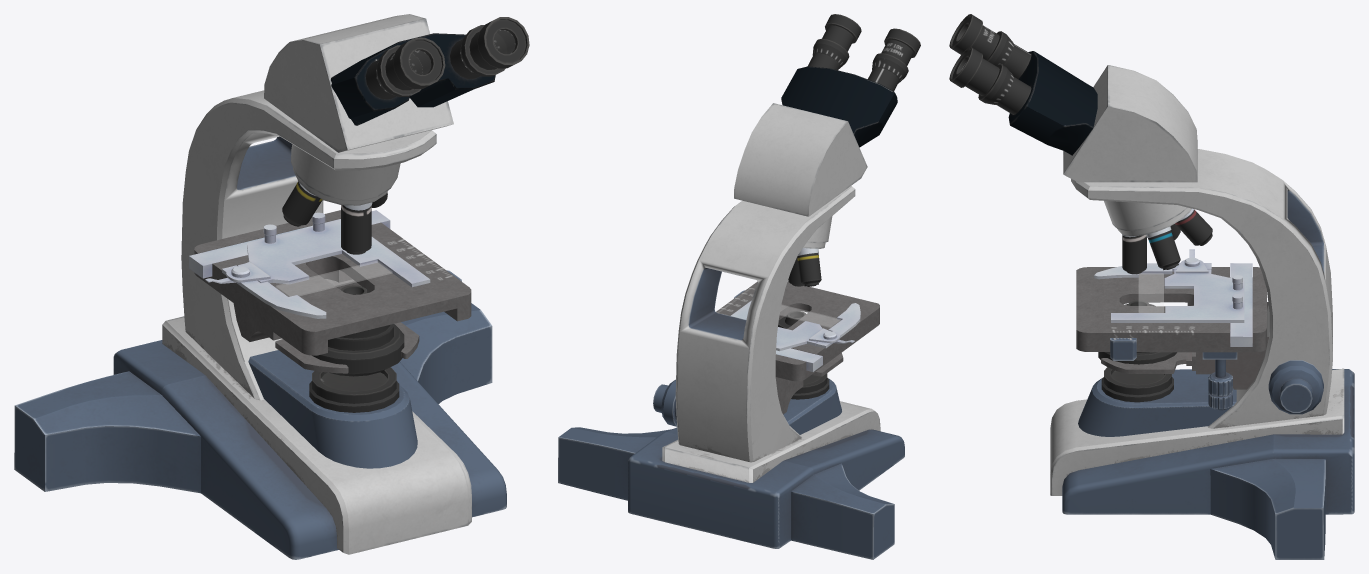
The model's file is 9显微镜.glb.
3 views of the same model, side by side, from view 1: azimuth 30°, elevation 25°; view 2: azimuth 150°, elevation 25°; view 3: azimuth 270°, elevation 25° (orthographic). The views are drawn at different scales.
Parts seen in each view (by area): view 1: 显微镜, 显微镜.008; view 2: 显微镜, 显微镜.008; view 3: 显微镜, 显微镜.008.
Boxes of the visible parts, box(x1,y1,x2,y2) form: 显微镜: box(14, 14, 529, 559); 显微镜.008: box(205, 212, 430, 318); 显微镜: box(558, 14, 920, 559); 显微镜.008: box(731, 300, 860, 351); 显微镜: box(949, 14, 1354, 559); 显微镜.008: box(1094, 249, 1244, 322).
Size of the model in its own units: 0.4208 by 0.4928 by 0.4115.
1 material, 1 textured.
